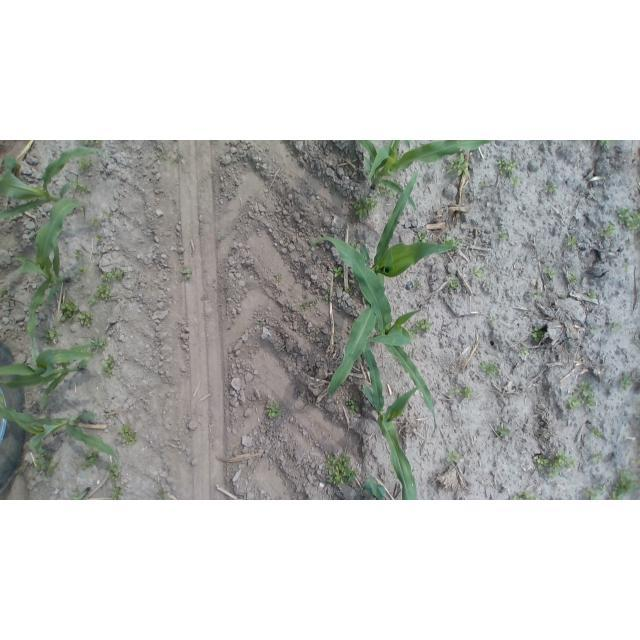Maize: (327, 169, 460, 411), (306, 237, 437, 437), (11, 197, 87, 371), (353, 328, 426, 500), (0, 396, 120, 483), (356, 141, 492, 212), (0, 146, 112, 219), (1, 344, 106, 412)
Weeds: (325, 451, 360, 488), (610, 469, 638, 500), (34, 446, 61, 477), (571, 380, 597, 411), (549, 450, 575, 478), (351, 194, 378, 220), (564, 385, 588, 411), (617, 207, 639, 232), (447, 155, 470, 177), (88, 284, 112, 305), (60, 299, 78, 323), (411, 318, 433, 337), (119, 424, 138, 446), (101, 267, 128, 282), (496, 157, 516, 177), (265, 400, 283, 420), (564, 390, 582, 410), (72, 178, 93, 195), (102, 355, 117, 378), (83, 450, 100, 470), (583, 485, 605, 500), (481, 360, 499, 378), (44, 328, 63, 345), (451, 385, 474, 399), (597, 224, 615, 241), (160, 152, 182, 165), (619, 373, 634, 392), (89, 338, 108, 353), (446, 386, 469, 398), (79, 310, 94, 328), (535, 455, 550, 472), (447, 275, 462, 292), (346, 398, 361, 415), (106, 462, 118, 483), (513, 491, 540, 500), (77, 155, 93, 169), (497, 228, 510, 244), (70, 489, 88, 500), (543, 181, 557, 195), (496, 423, 509, 438), (111, 485, 124, 500), (532, 327, 544, 343), (543, 267, 557, 280), (565, 234, 578, 248), (447, 451, 460, 464), (414, 231, 428, 243), (471, 266, 485, 278), (332, 265, 344, 279), (378, 184, 392, 196), (591, 428, 605, 439), (443, 236, 458, 246), (609, 322, 621, 333), (592, 451, 603, 463), (519, 347, 530, 359), (299, 300, 312, 310), (70, 487, 84, 496), (78, 266, 89, 277), (182, 268, 192, 280), (412, 279, 422, 291), (74, 250, 84, 262), (91, 215, 101, 227), (157, 487, 167, 499), (569, 273, 580, 283), (344, 285, 354, 296), (103, 210, 113, 221), (512, 175, 521, 187), (13, 466, 25, 475), (600, 140, 613, 148), (95, 234, 105, 244), (349, 241, 360, 250), (533, 290, 543, 299), (589, 326, 599, 335), (83, 141, 101, 146), (274, 274, 283, 283), (588, 291, 597, 299), (488, 316, 496, 325), (0, 289, 8, 298), (255, 321, 265, 328), (71, 487, 81, 493), (217, 235, 225, 242), (480, 182, 488, 189), (623, 264, 629, 272), (202, 295, 208, 302), (637, 459, 640, 465)
